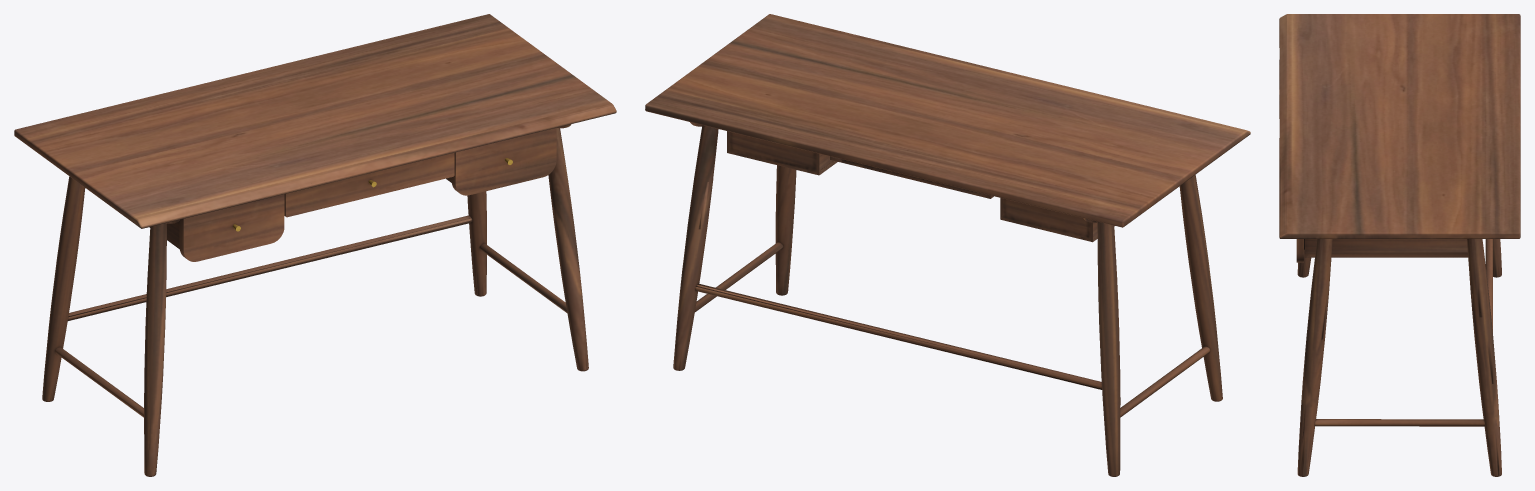
The model's file is raw_model.obj.
3 views of the same model, side by side, from view 1: azimuth 30°, elevation 25°; view 2: azimuth 150°, elevation 25°; view 3: azimuth 270°, elevation 25° (orthographic). The views are drawn at different scales.
Parts seen in each view (by area): view 1: solid_002; view 2: solid_002; view 3: solid_002.
Boxes of the visible parts, x1,y1,x2,y2 form: solid_002: (14, 14, 616, 476); solid_002: (645, 14, 1250, 476); solid_002: (1279, 14, 1520, 476).
Bounding box in the file's own units: 1.4 × 0.7501 × 0.6495.
1 material, 1 textured.
